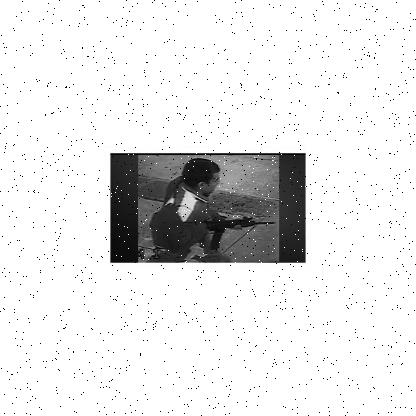gun: (188, 216, 276, 252)
